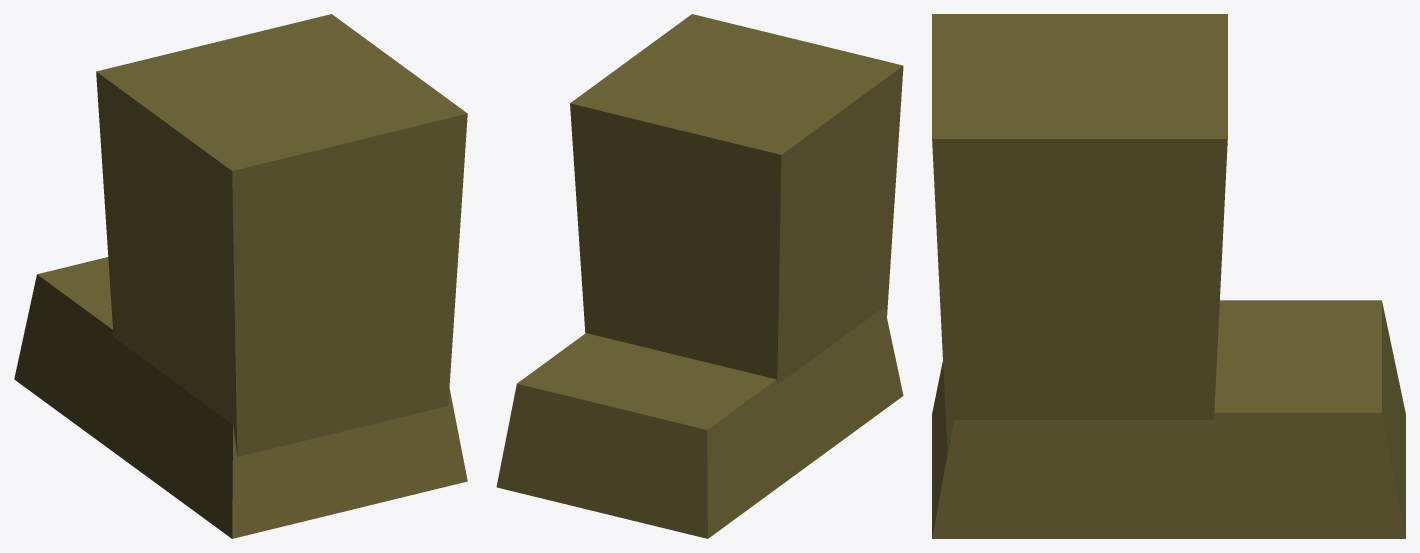
File: animal_bullfrog_leg.obj
3 views of the same model, side by side, from view 1: azimuth 30°, elevation 25°; view 2: azimuth 150°, elevation 25°; view 3: azimuth 270°, elevation 25° (orthographic). The views are drawn at different scales.
Parts seen in each view (by area): view 1: animal_bullfrog_leg; view 2: animal_bullfrog_leg; view 3: animal_bullfrog_leg.
Boxes of the visible parts, box(x1,y1,x2,y2) form: animal_bullfrog_leg: box(14, 14, 467, 538); animal_bullfrog_leg: box(496, 14, 903, 538); animal_bullfrog_leg: box(932, 14, 1405, 538).
Size of the model in its own units: 0.0382 by 0.057 by 0.0612.
